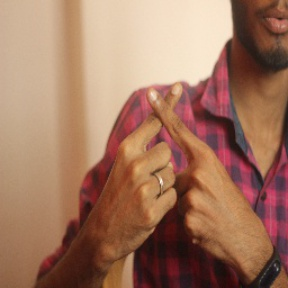X: (115, 75, 214, 178)
